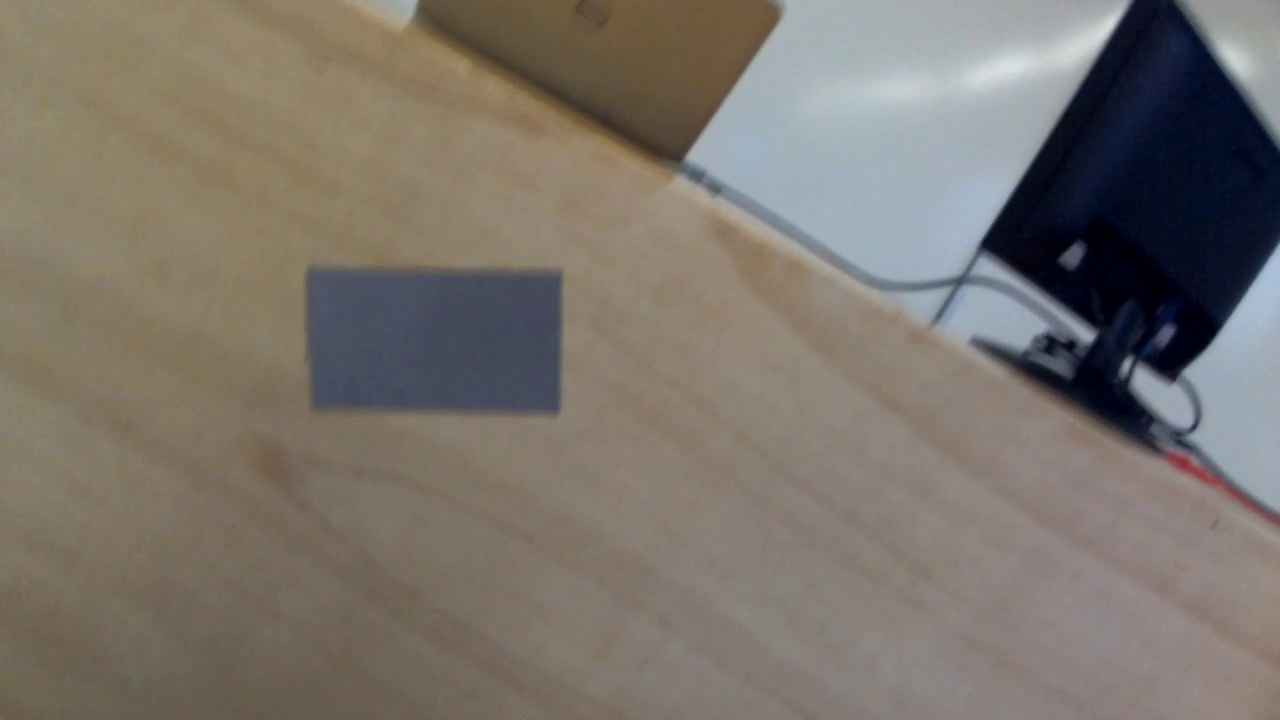Tape: (309, 268, 561, 415)
